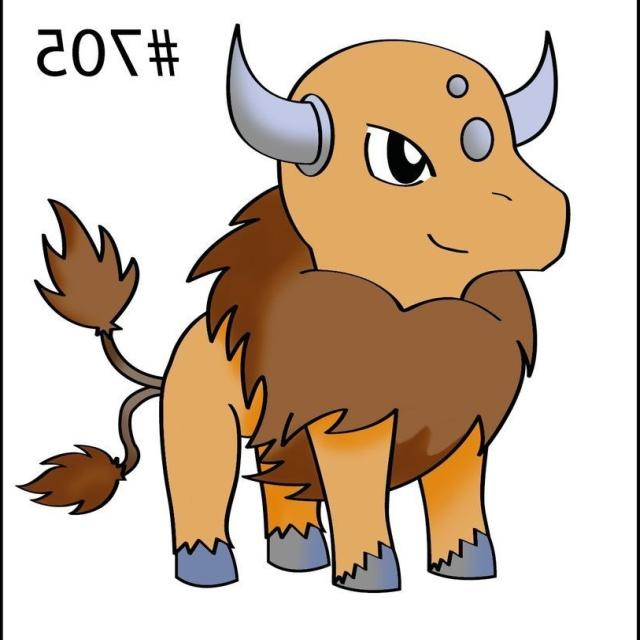Tauros: (21, 13, 608, 618)
